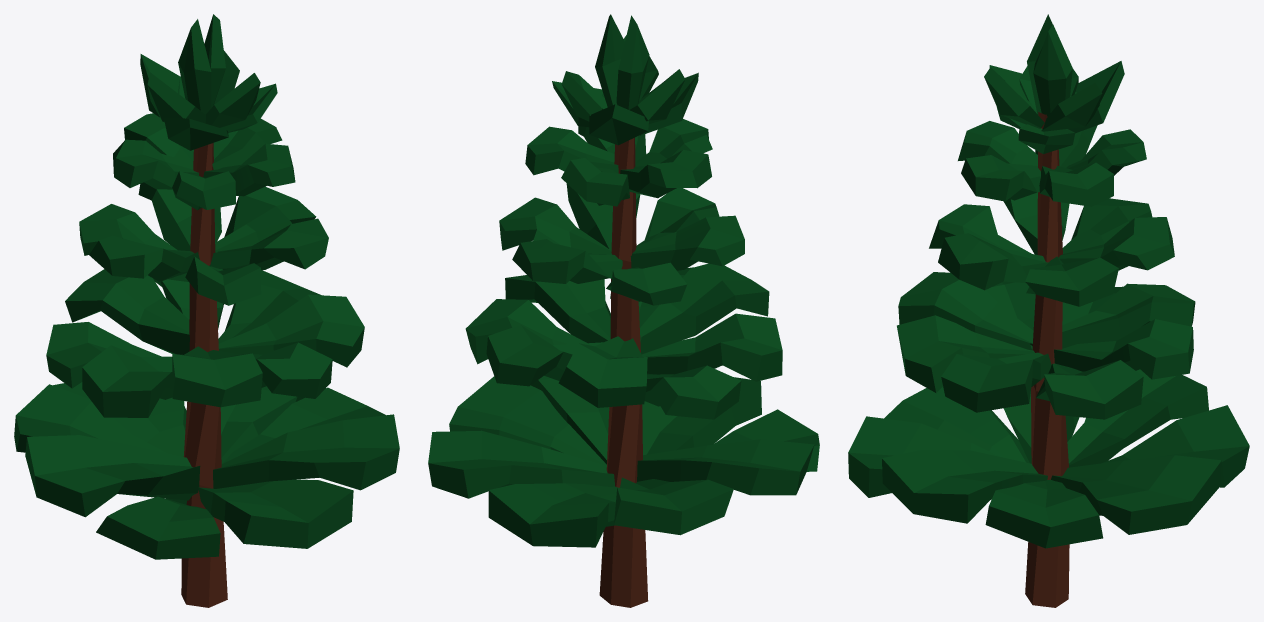
File: Tree_6_Low.fbx
3 renders of one model, left to right at view 1: azimuth 30°, elevation 25°; view 2: azimuth 150°, elevation 25°; view 3: azimuth 270°, elevation 25°, orthographic.
Parts seen in each view (by area): view 1: Tree_6_Low; view 2: Tree_6_Low; view 3: Tree_6_Low.
Part boxes in pixels (x1,y1,x2,y2): Tree_6_Low: (14, 14, 399, 607); Tree_6_Low: (428, 14, 819, 607); Tree_6_Low: (848, 14, 1249, 607).
Bounding box in the file's own units: 129 × 213 × 133.
